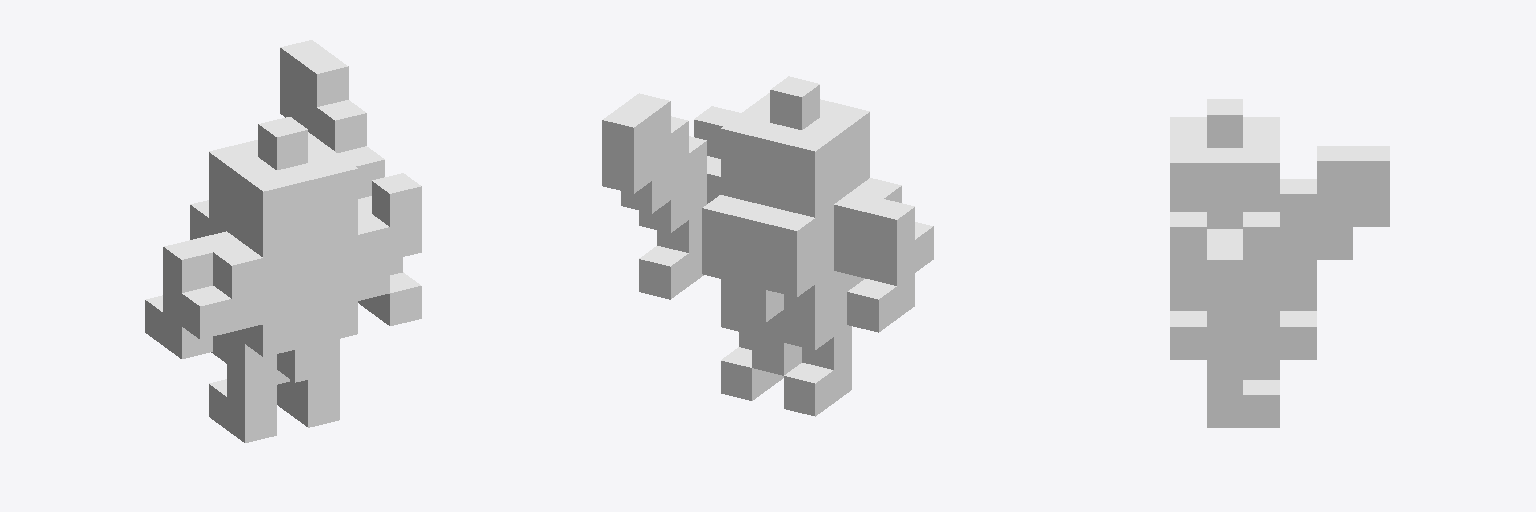
Rendered from Rus.obj.
3 views of the same model, side by side, from view 1: azimuth 30°, elevation 25°; view 2: azimuth 150°, elevation 25°; view 3: azimuth 270°, elevation 25° (orthographic).
Visible parts, largest first — view 1: GnomeBase; view 2: GnomeBase; view 3: GnomeBase.
Part boxes in pixels (x1,y1,x2,y2): GnomeBase: (145,40,421,442); GnomeBase: (602,76,933,416); GnomeBase: (1170,99,1389,427).
Size of the model in its own units: 0.7 by 0.9 by 0.6.